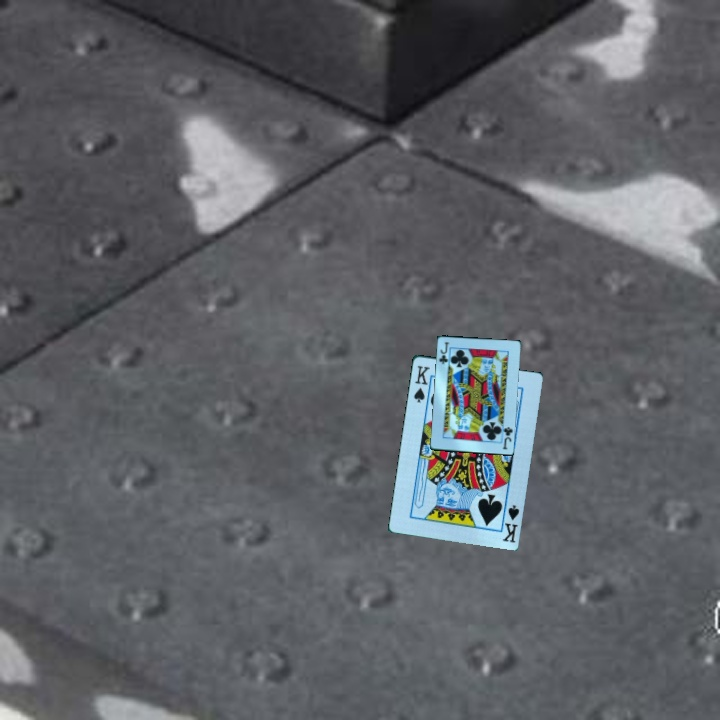Jc: (499, 423, 515, 452), (436, 338, 451, 366)
Ks: (499, 498, 522, 545), (410, 362, 433, 405)
